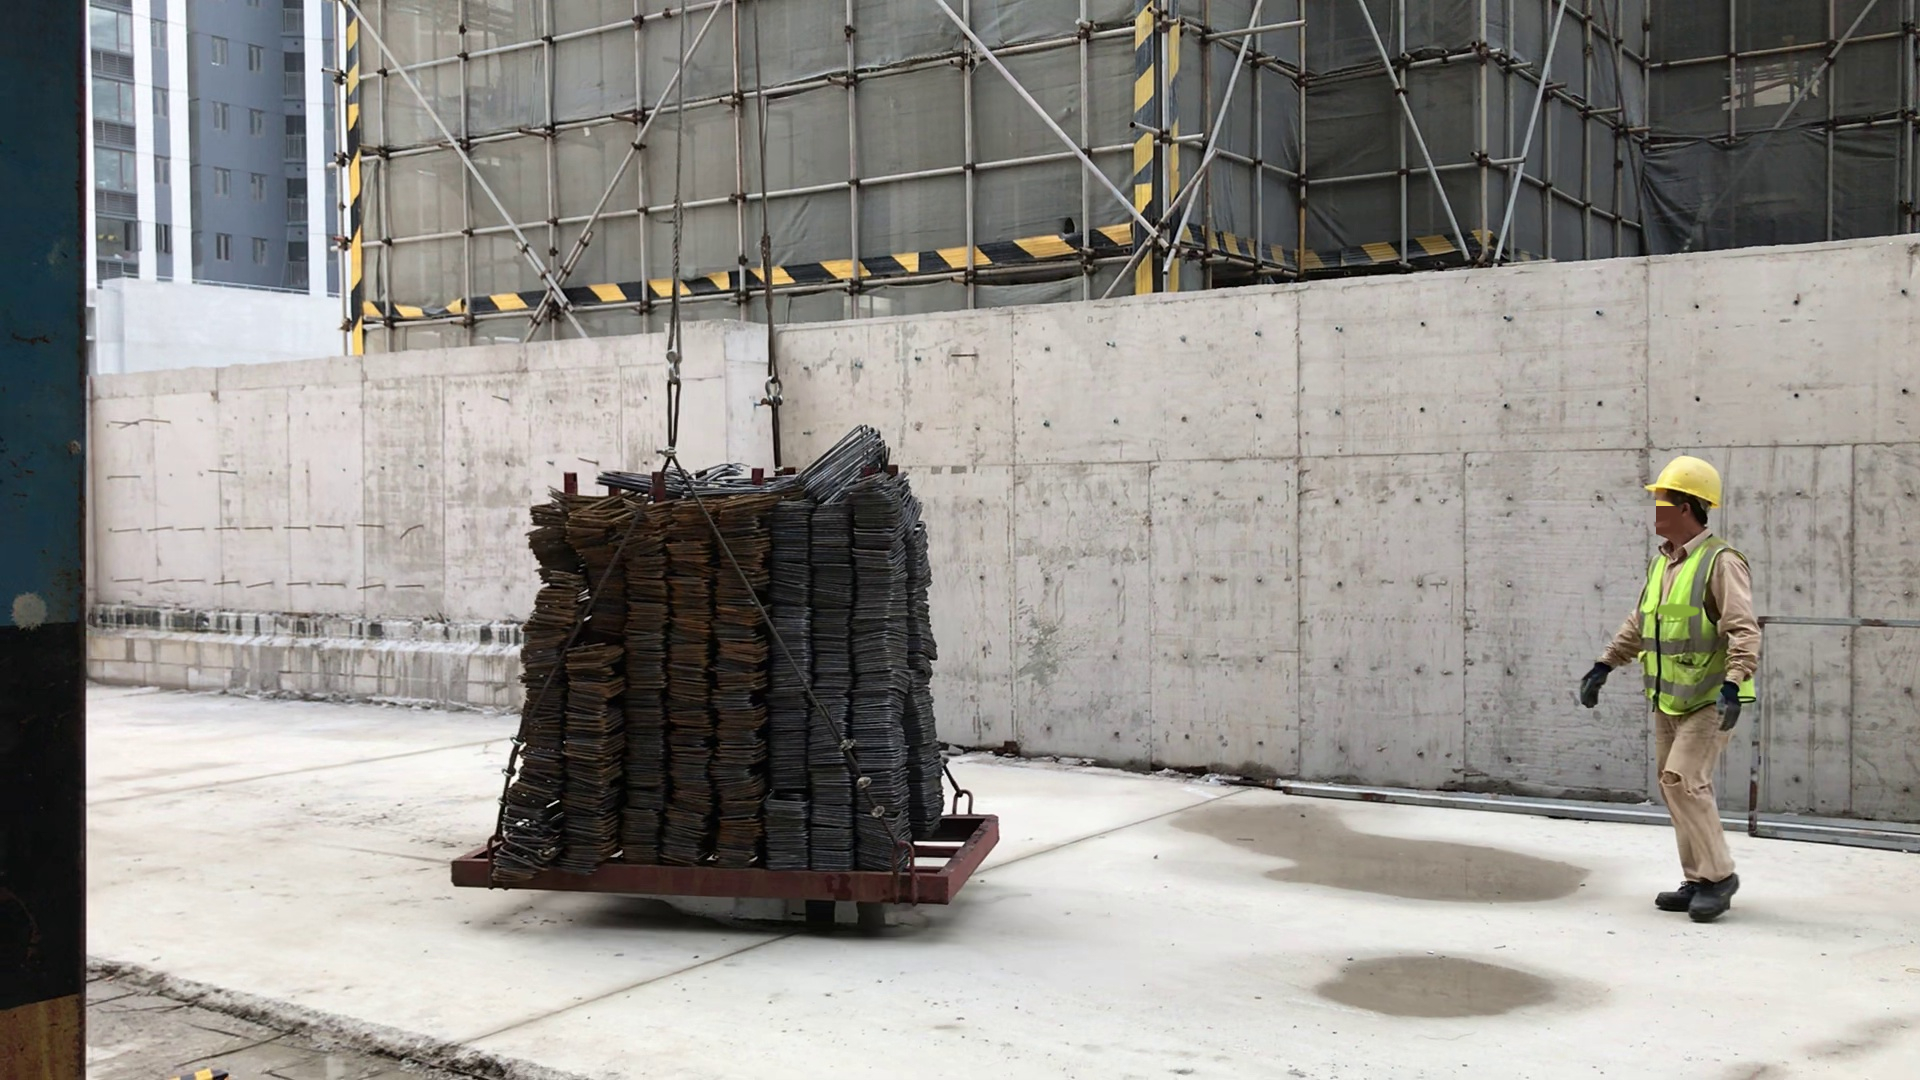helmet: (1648, 448, 1725, 524)
person: (1573, 445, 1784, 921)
vest: (1629, 547, 1739, 692)
